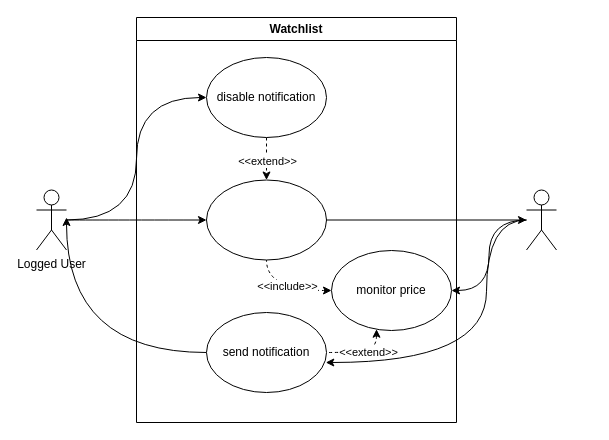
The diagram is 609 pixels wide and 440 high, and some of its shapes have lost their labels. Each missing label, with the centre of its shape:
"enable notification" goes at point (266, 219).
"Notification system" goes at point (541, 219).
